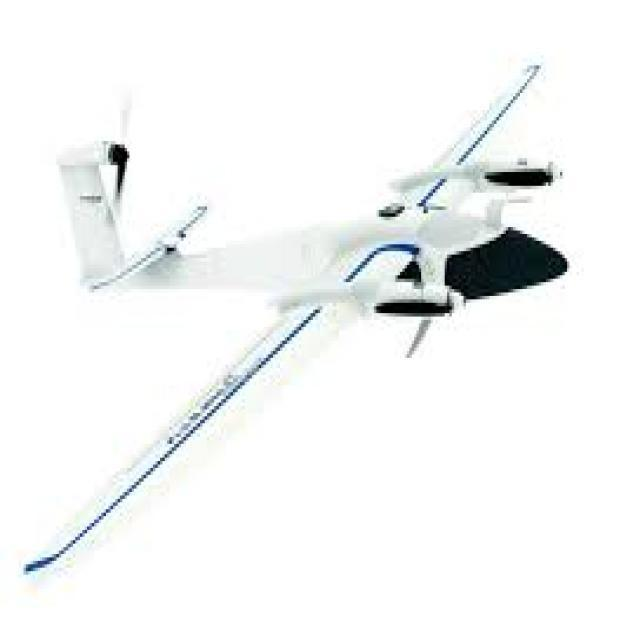UAV: (28, 115, 581, 526)
